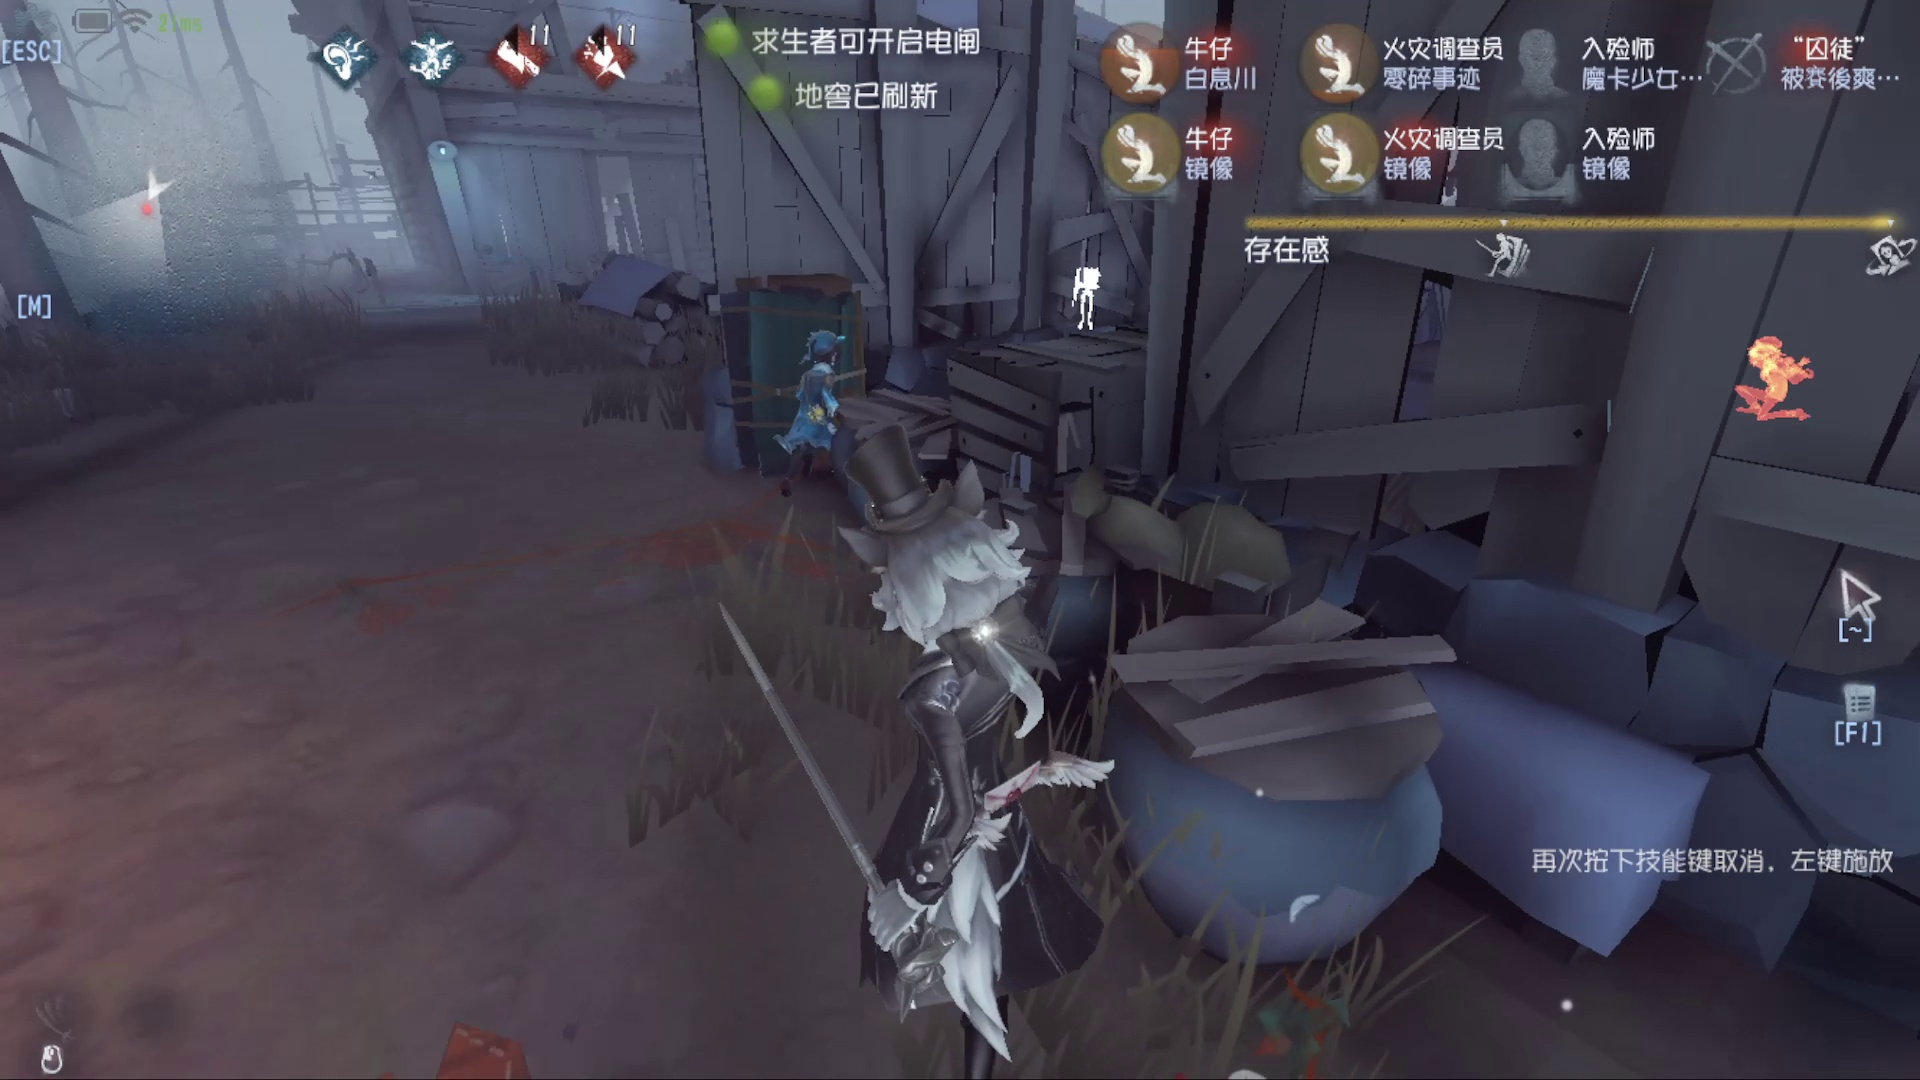求生者: (1681, 302, 1804, 444), (753, 309, 855, 458)
脚印: (458, 417, 773, 601)
